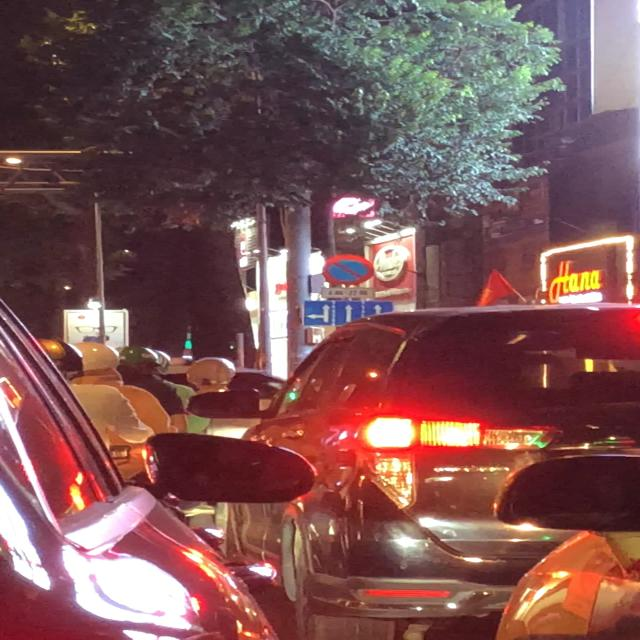Bien bao cam do xe: (318, 253, 379, 287)
